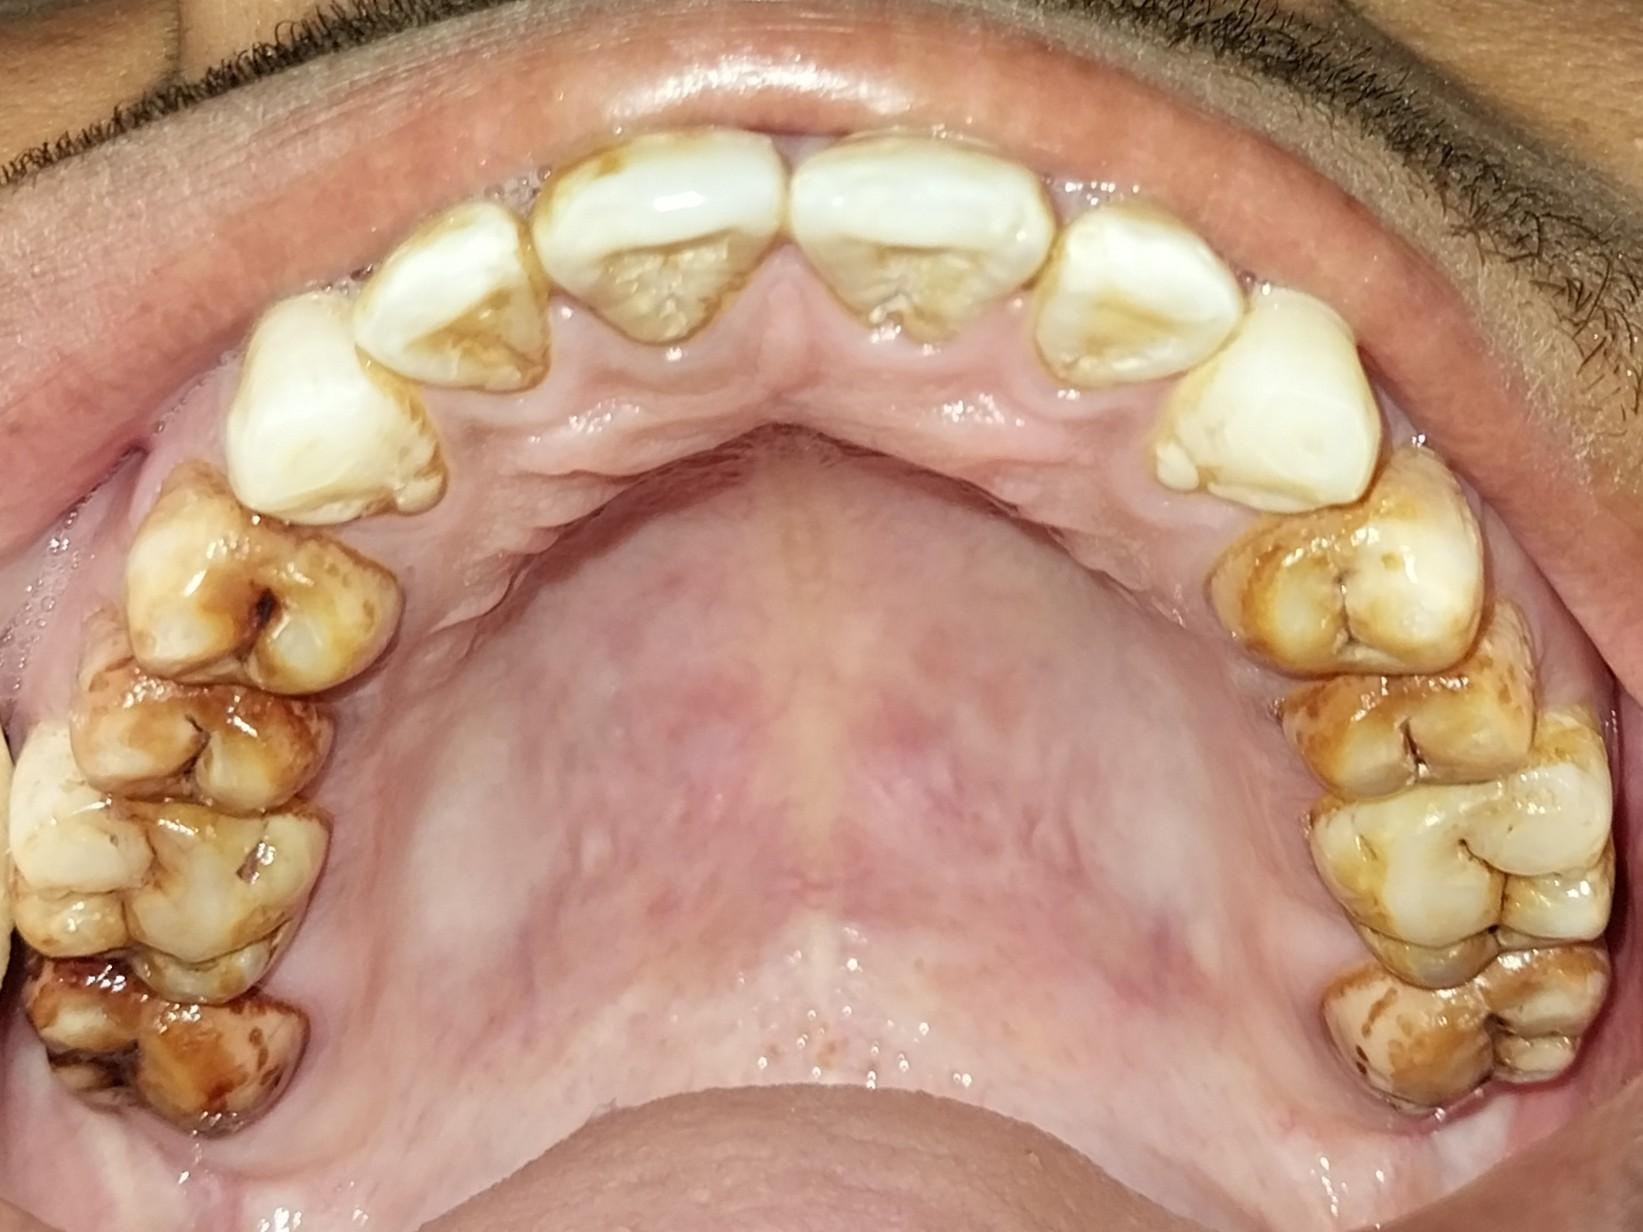D: (2, 719, 327, 1003), (1306, 716, 1617, 981), (124, 463, 403, 696), (1203, 453, 1486, 678), (17, 956, 308, 1138), (1283, 612, 1556, 790), (1322, 947, 1612, 1113), (78, 663, 337, 816)
